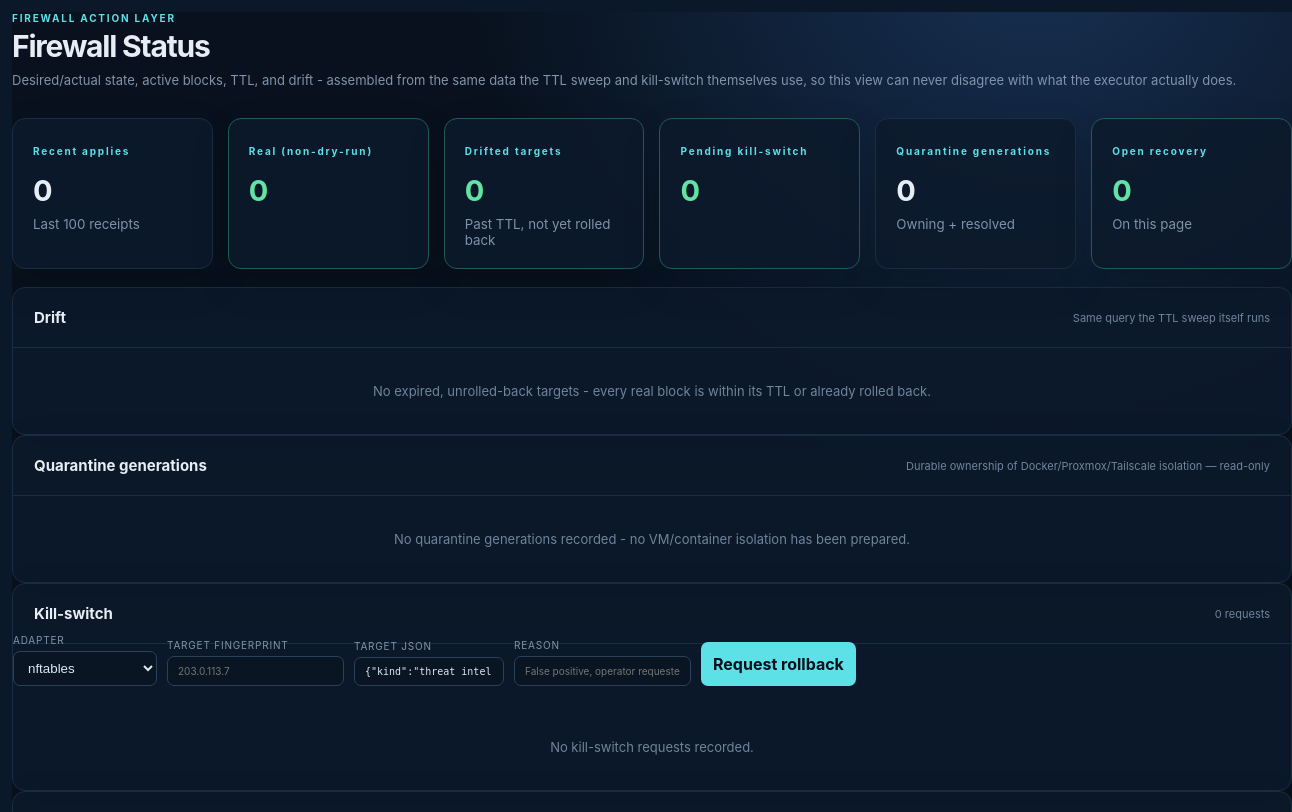
Scenario: FirewallStatus › shows a validation error for malformed target JSON instead of submitting
The image size is (1292, 812).
expect the text "No kill-switch requests recorded." is shown: met, box [550, 739, 754, 755]
In the field labelled "Target fingerprint": (256, 671) [167, 656, 344, 686], type "203.0.113.99"
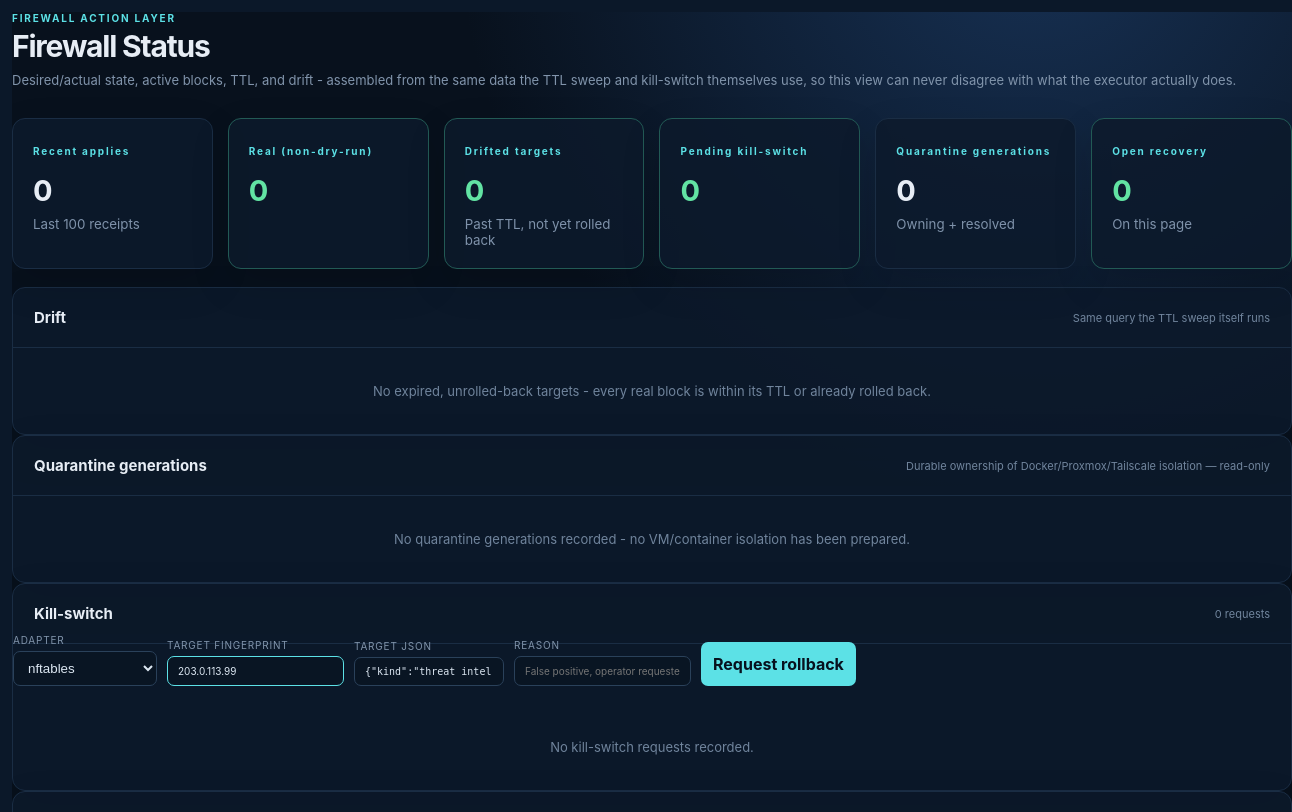
Replace the text in the field labelled "Target JSON" with "not valid json": (429, 672) [354, 657, 504, 686]
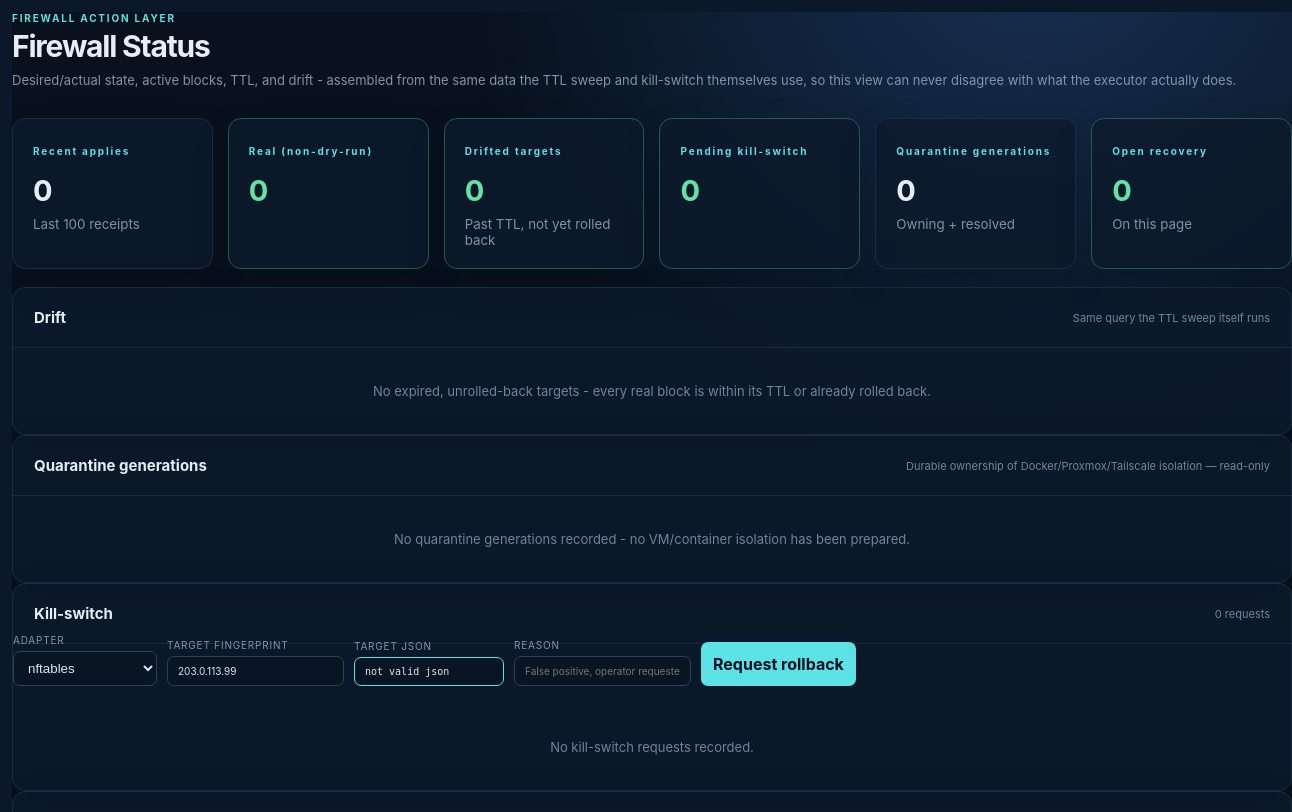
Click the button "Request rollback": (778, 664) [701, 642, 856, 686]
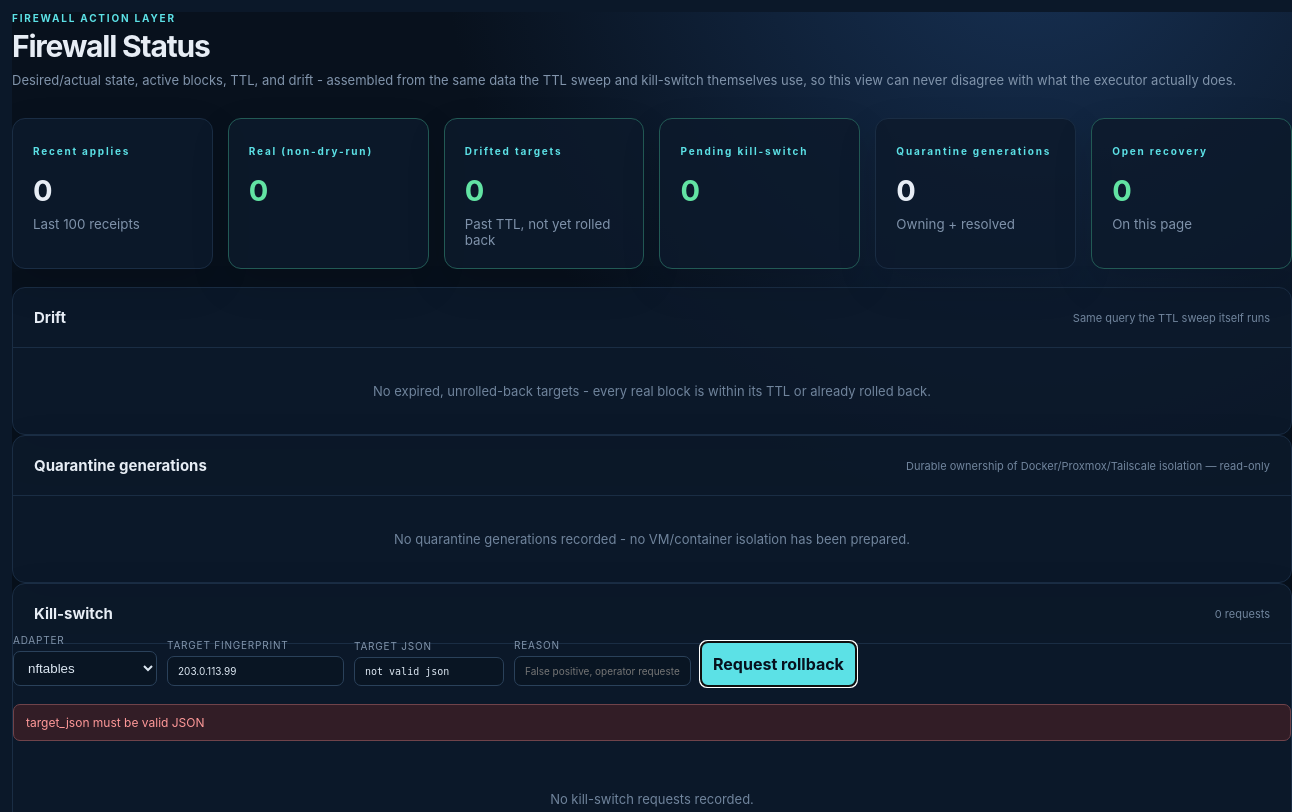
expect the text "target_json must be valid JSON" is shown: met, box [13, 704, 1291, 741]
